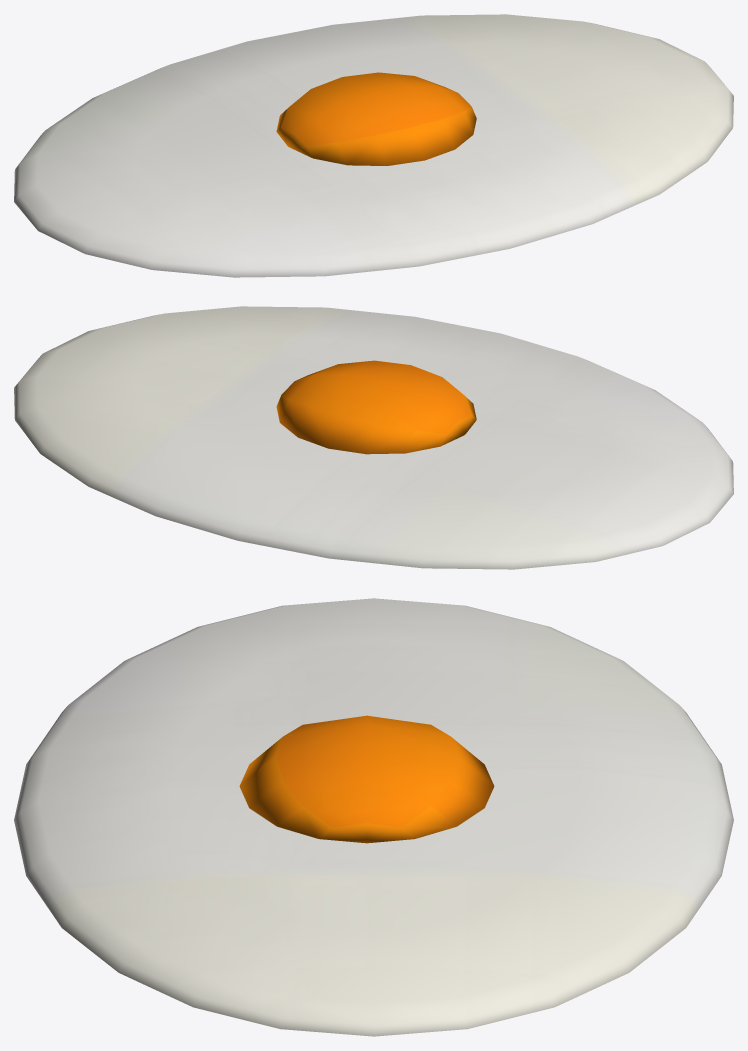
The model's file is Eggs-Frying.obj.
The picture shows the model from 3 angles, top to bottom: view 1: azimuth 30°, elevation 25°; view 2: azimuth 150°, elevation 25°; view 3: azimuth 270°, elevation 25°; orthographic projection. The views are drawn at different scales.
Visible parts, largest first — view 1: Eggs-Frying.obj; view 2: Eggs-Frying.obj; view 3: Eggs-Frying.obj.
Part boxes in pixels (box(x1,y1,x2,y2)): Eggs-Frying.obj: box(14, 14, 733, 277); Eggs-Frying.obj: box(14, 306, 733, 569); Eggs-Frying.obj: box(14, 598, 733, 1036).
Bounding box in the file's own units: 5.77 × 0.479 × 4.05.
